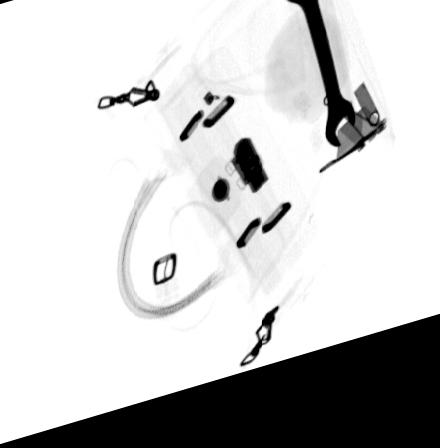Wrench: (277, 0, 356, 169)
